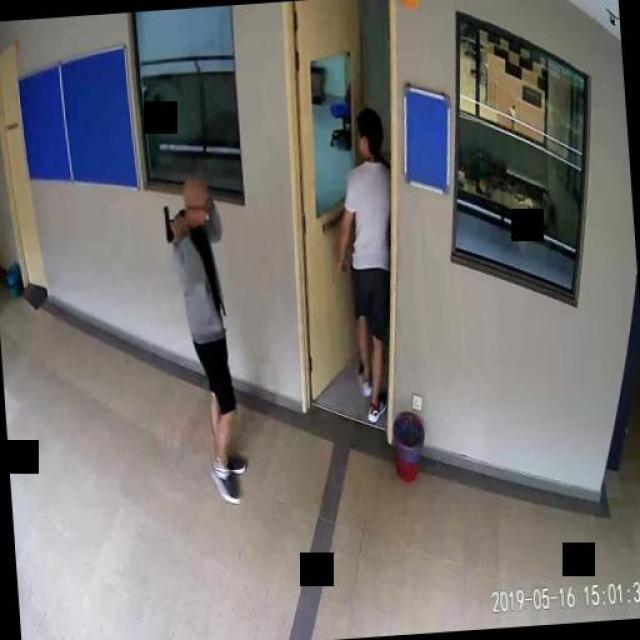gun: (161, 204, 185, 241)
